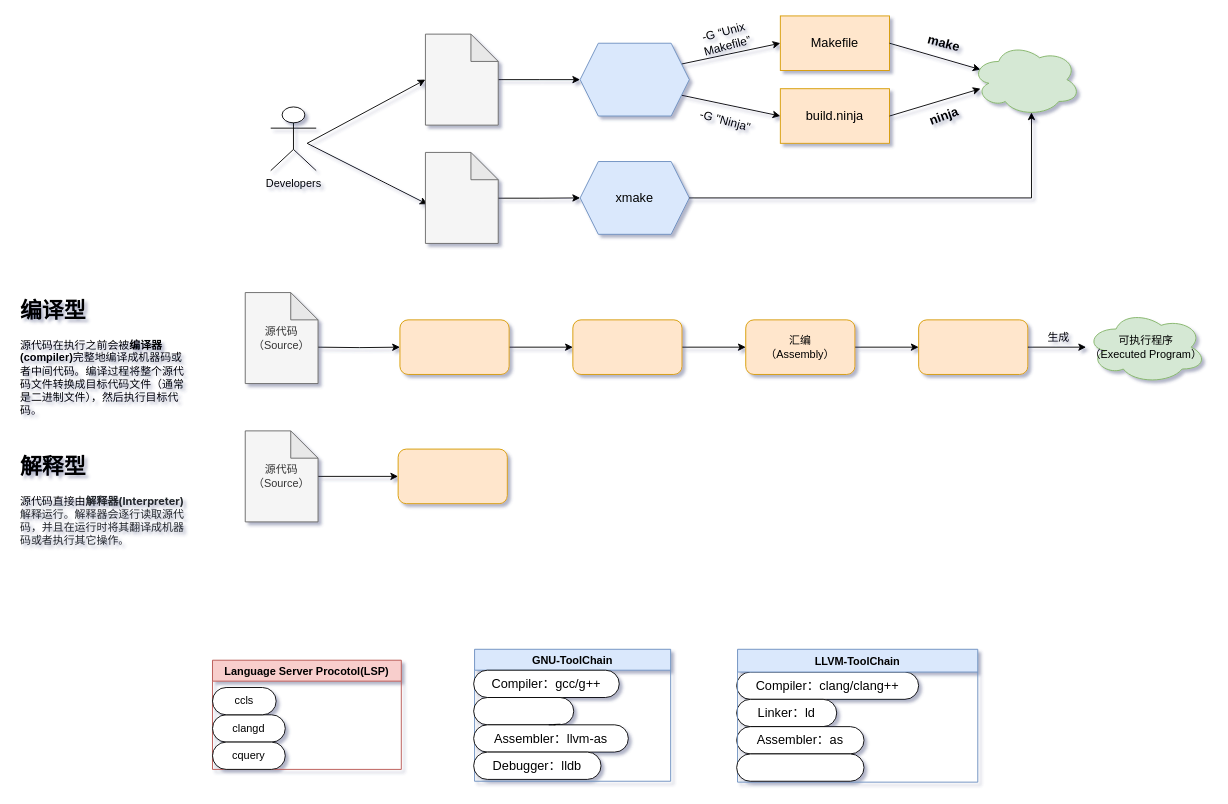
Some shapes in this 1228 by 804 pixel diagram are drawn without their labels. Here are the shapes that lost their labels. From the top down, the centre of each, then its label:
[461,79]: CMakeList.txt
[634,79]: cmake
[1026,79]: Build Program
[461,197]: xmake.lua
[454,346]: 预处理 （Pre-Processing）
[627,346]: 编译 （Compilation）
[973,346]: 链接 （Linking）
[452,476]: 解释 （Interpret）
[523,711]: Linker：lld
[800,767]: Debugger：gdb
